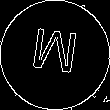M_S: (29, 27, 81, 83)
